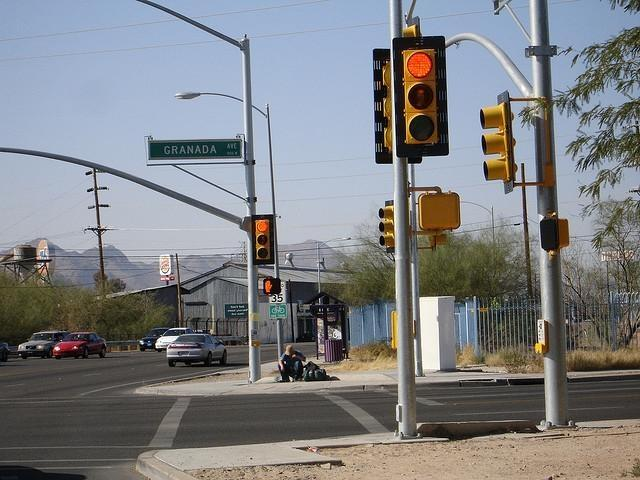car: (166, 334, 228, 365), (52, 330, 106, 360), (18, 332, 69, 360), (139, 329, 171, 352), (159, 326, 183, 348)
